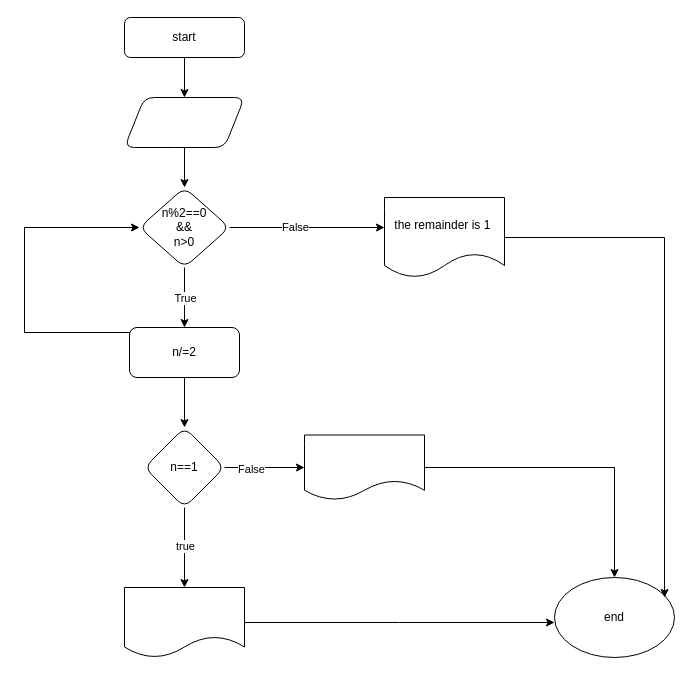
Image size: 692x675. Some labels were removed from this diagram. Each missing label, with the centre of its shape:
int n = 2048: (x=184, y=122)
it is not power of 2: (x=364, y=467)
it is power of 2: (x=184, y=622)
